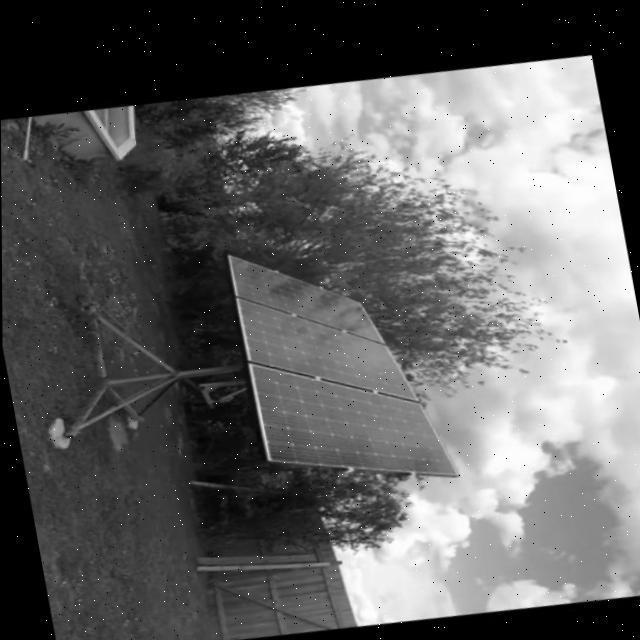Normal Solar Panel: (246, 329, 457, 501), (235, 266, 413, 419), (226, 228, 382, 360)
